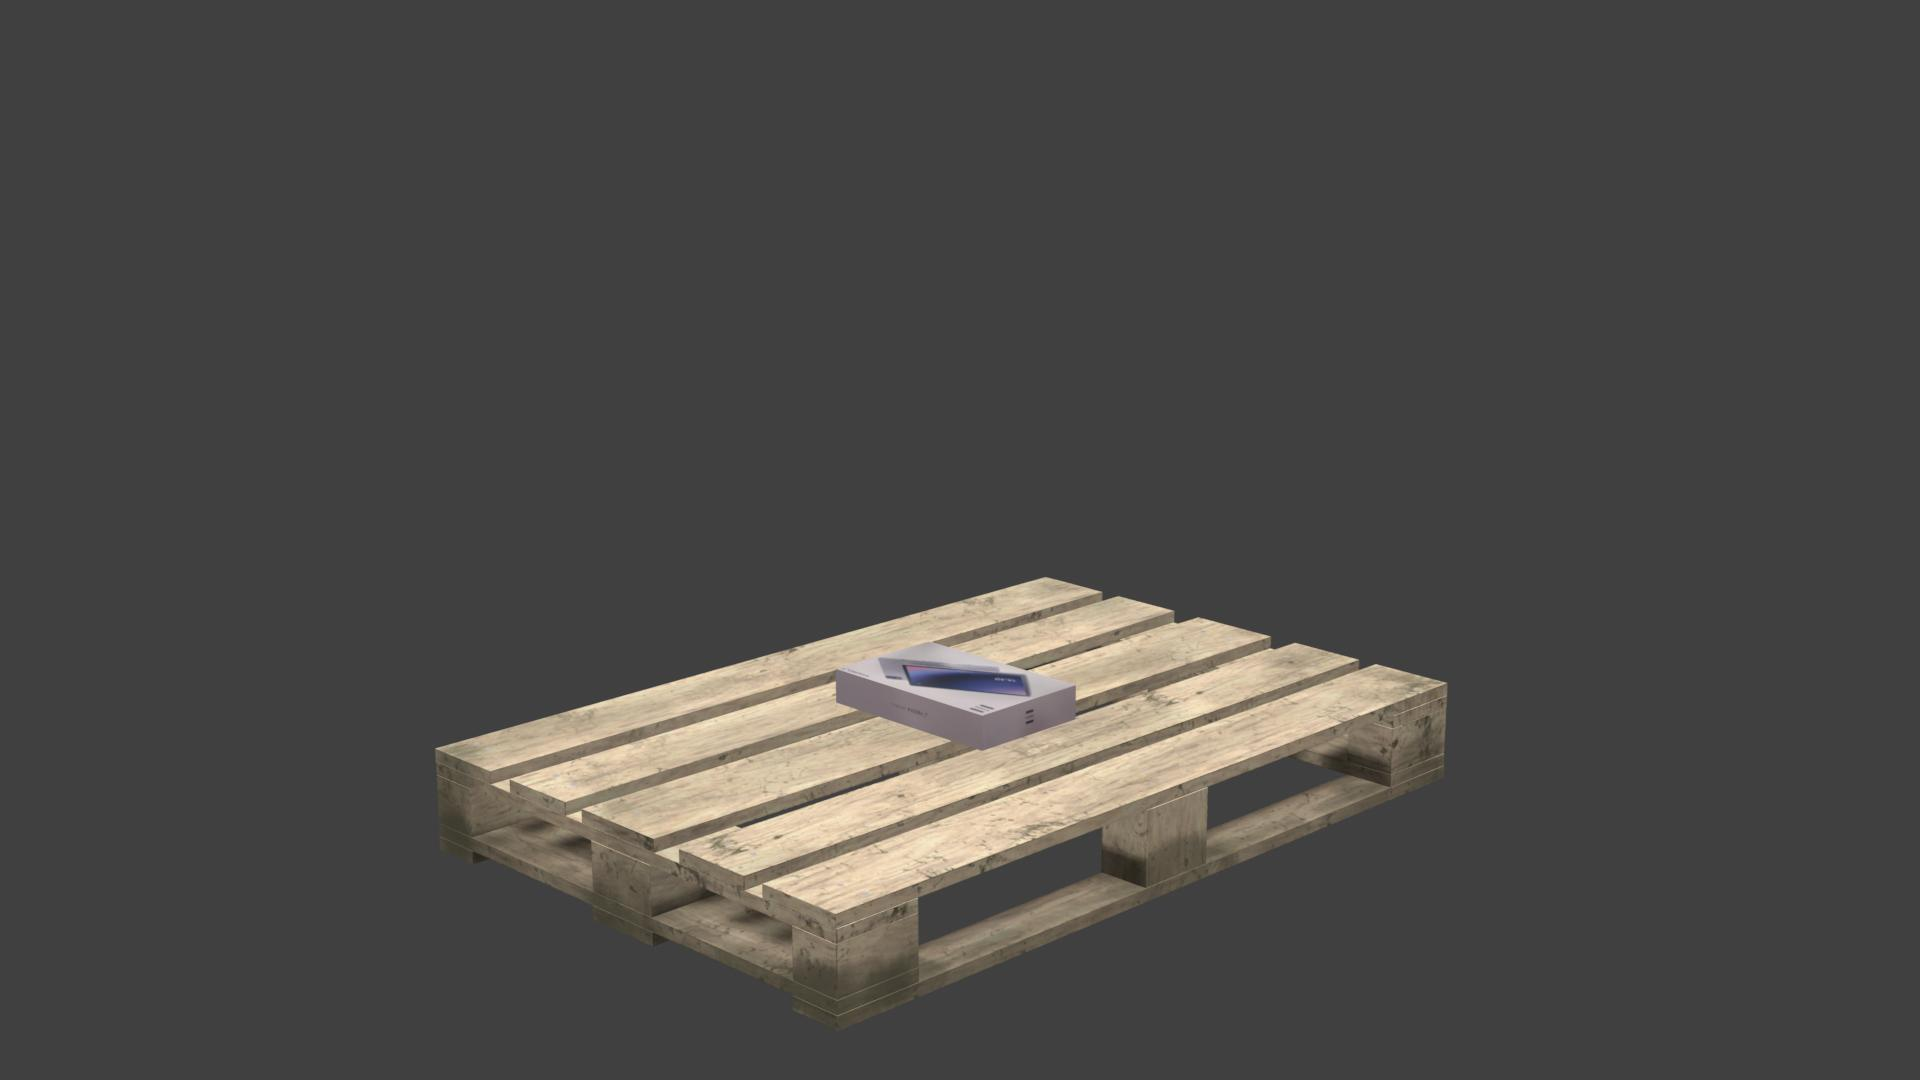palet: (435, 576, 1447, 1029)
tablet_left: (836, 670, 1077, 750)
tablet_top: (839, 642, 1072, 715)
